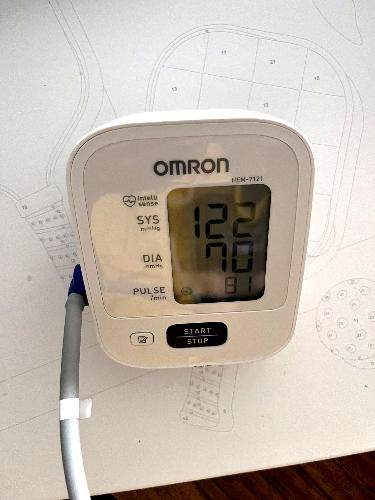bpm: (162, 179, 284, 310)
